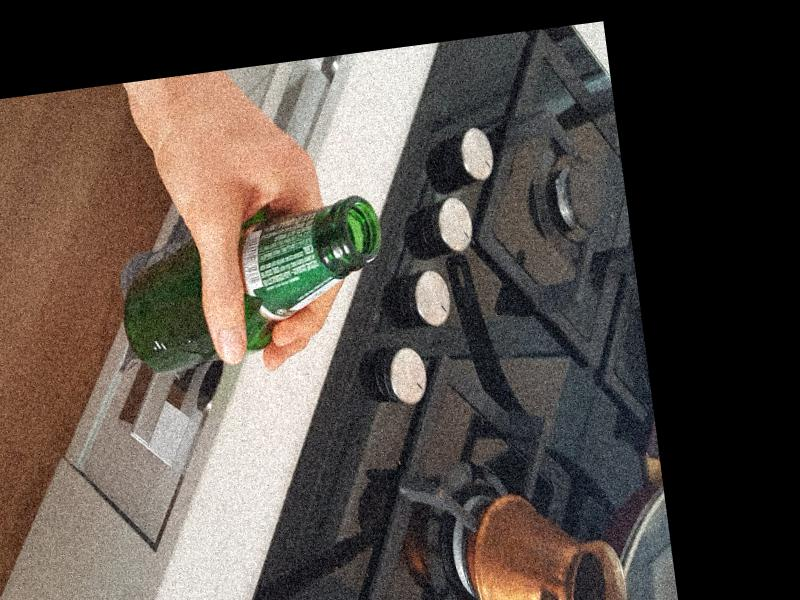Beer: (111, 194, 395, 375)
